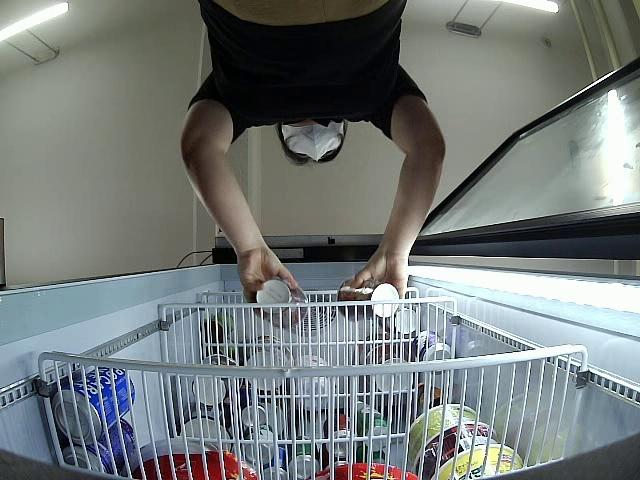00_hand: (237, 253, 295, 319), (354, 253, 408, 312)
06_nuguri_S: (339, 275, 400, 322), (254, 278, 309, 325)
